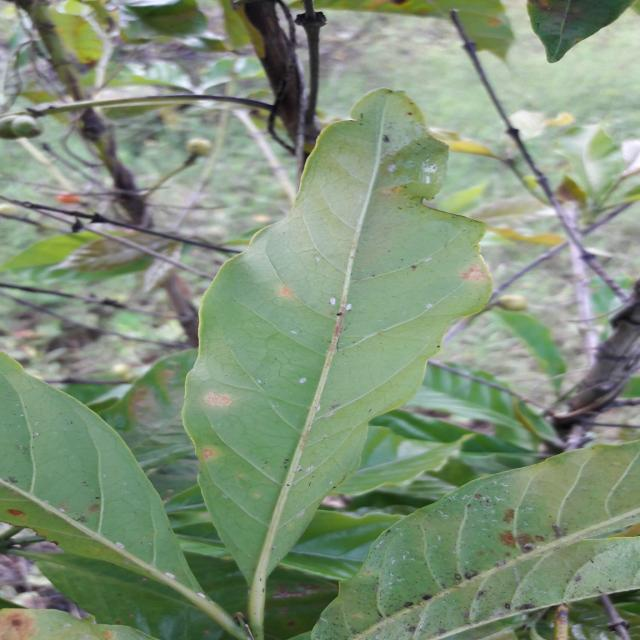Enfermedad-Roya: (181, 90, 497, 640)
